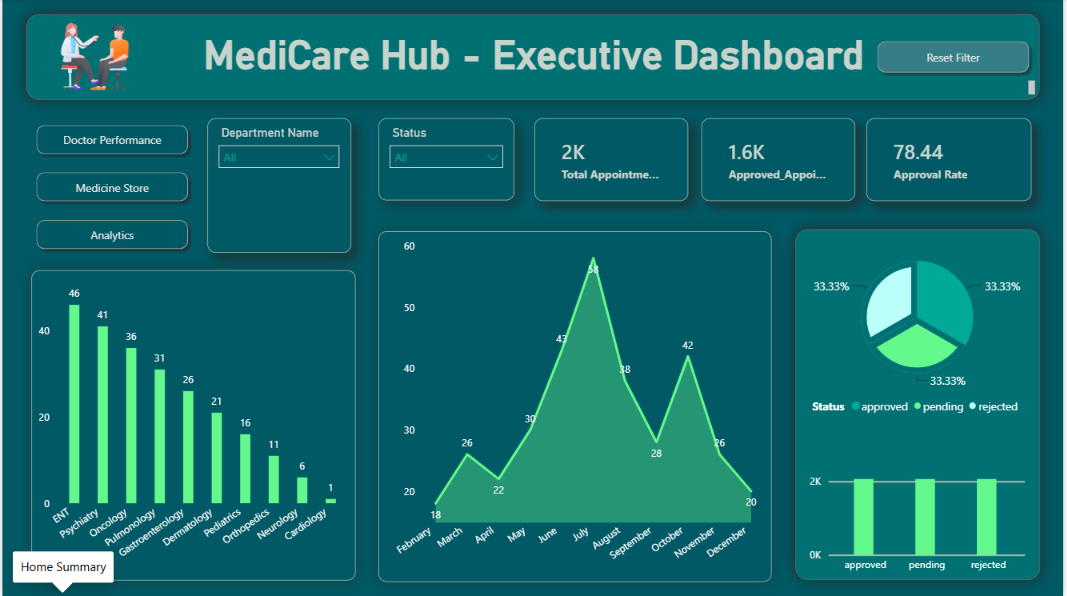

The dashboard page shown, as its layout file describes it:
{"tool":"powerbi","page":{"name":"Home Summary","canvas":[1280,720],"ordinal":0},"visuals":[{"type":"textbox","title":"MediCare Hub - Executive Dashboard","box":[29.5,17.7,1222.8,103.2],"z":0},{"type":"slicer","fields":{"Values":["sql12830320 medicine_purchases.status"]},"box":[453.7,143.9,164.1,99.6],"z":1000},{"type":"cardVisual","fields":{"Data":["sql12830320 appointments.Approved_Appointments"]},"box":[843.7,143.1,185.8,100.3],"z":2000},{"type":"cardVisual","fields":{"Data":["sql12830320 appointments.Approval_Rate_Percent"]},"box":[1042.8,143.1,199.1,100.3],"z":3000},{"type":"cardVisual","fields":{"Data":["sql12830320 appointments.Total Appointments"]},"box":[641.6,143.1,185.8,100.3],"z":4000},{"type":"slicer","fields":{"Values":["sql12830320 departments.name"]},"box":[247.1,143.9,173.4,162.3],"z":5000},{"type":"cardVisual","fields":{"Data":["sql12830320 appointments.empty"]},"box":[957.3,277.3,295,423.3],"z":6000},{"type":"pieChart","fields":{"Category":["sql12830320 medicine_purchases.status"],"Y":["CountNonNull(sql12830320 appointments.status)"]},"box":[963.2,287.6,281.7,222.7],"z":7000},{"type":"columnChart","fields":{"Y":["CountNonNull(sql12830320 appointments.status)"],"Category":["sql12830320 medicine_purchases.status"]},"box":[969.1,523.6,269.9,177],"z":8000},{"type":"lineClusteredColumnComboChart","fields":{"Category":["sql12830320 departments.name"],"Y":["Min(sql12830320 appointments.id)"]},"box":[35,326.5,391,374.4],"z":9000},{"type":"lineChart","fields":{"Category":["sql12830320 appointments.appointment_date.Variation.Date Hierarchy.Month"],"Y":["sql12830320 appointments.Approved_Appointments"]},"box":[453.6,279.5,474.1,422.9],"z":10000},{"type":"pageNavigator","box":[35,145.7,195.5,162.3],"z":12000},{"type":"bookmarkNavigator","box":[1049.3,44.2,195.7,50.5],"z":12001},{"type":"image","box":[45.8,22.1,131,94.7],"z":12002}]}

Visuals, with their boxes in screenshot pixels (x1, y1, x2, y2), scaled from the page's 1280x720 canvas onto the 1067x596 screenshot:
"MediCare Hub - Executive Dashboard" textbox: <box>25,15,1044,100</box>
slicer - sql12830320 medicine_purchases.status: <box>378,119,515,202</box>
cardVisual - sql12830320 appointments.Approved_Appointments: <box>703,118,858,201</box>
cardVisual - sql12830320 appointments.Approval_Rate_Percent: <box>869,118,1035,201</box>
cardVisual - sql12830320 appointments.Total Appointments: <box>535,118,690,201</box>
slicer - sql12830320 departments.name: <box>206,119,351,253</box>
cardVisual - sql12830320 appointments.empty: <box>798,230,1044,580</box>
pieChart - sql12830320 medicine_purchases.status x CountNonNull(sql12830320 appointments.status): <box>803,238,1038,422</box>
columnChart - CountNonNull(sql12830320 appointments.status) x sql12830320 medicine_purchases.status: <box>808,433,1033,580</box>
lineClusteredColumnComboChart - sql12830320 departments.name x Min(sql12830320 appointments.id): <box>29,270,355,580</box>
lineChart - sql12830320 appointments.appointment_date.Variation.Date Hierarchy.Month x sql12830320 appointments.Approved_Appointments: <box>378,231,773,581</box>
pageNavigator: <box>29,121,192,255</box>
bookmarkNavigator: <box>875,37,1038,78</box>
image: <box>38,18,147,97</box>
